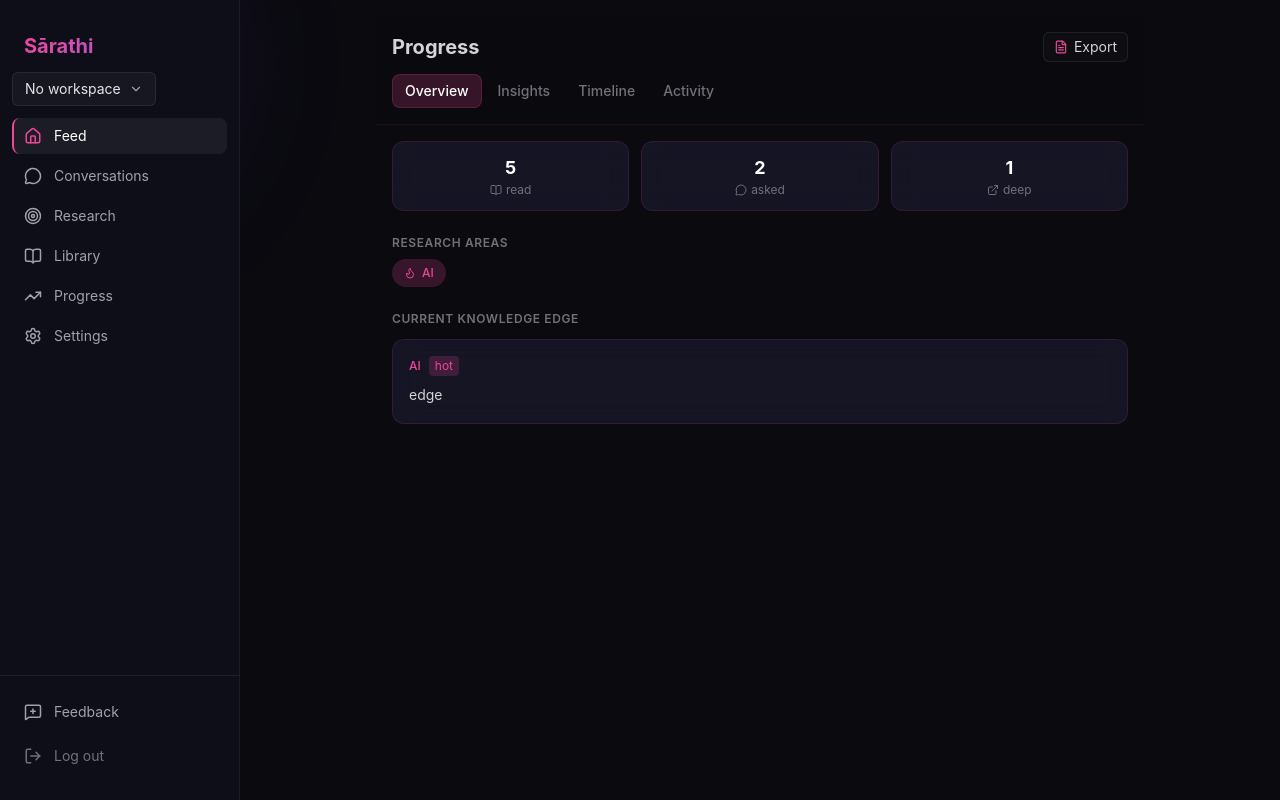
Test case: Profile page › shows tiered summaries and brief archive when Activity tab is opened
Step 1. Click the button "activity" → [689, 91], box [651,74,726,108]
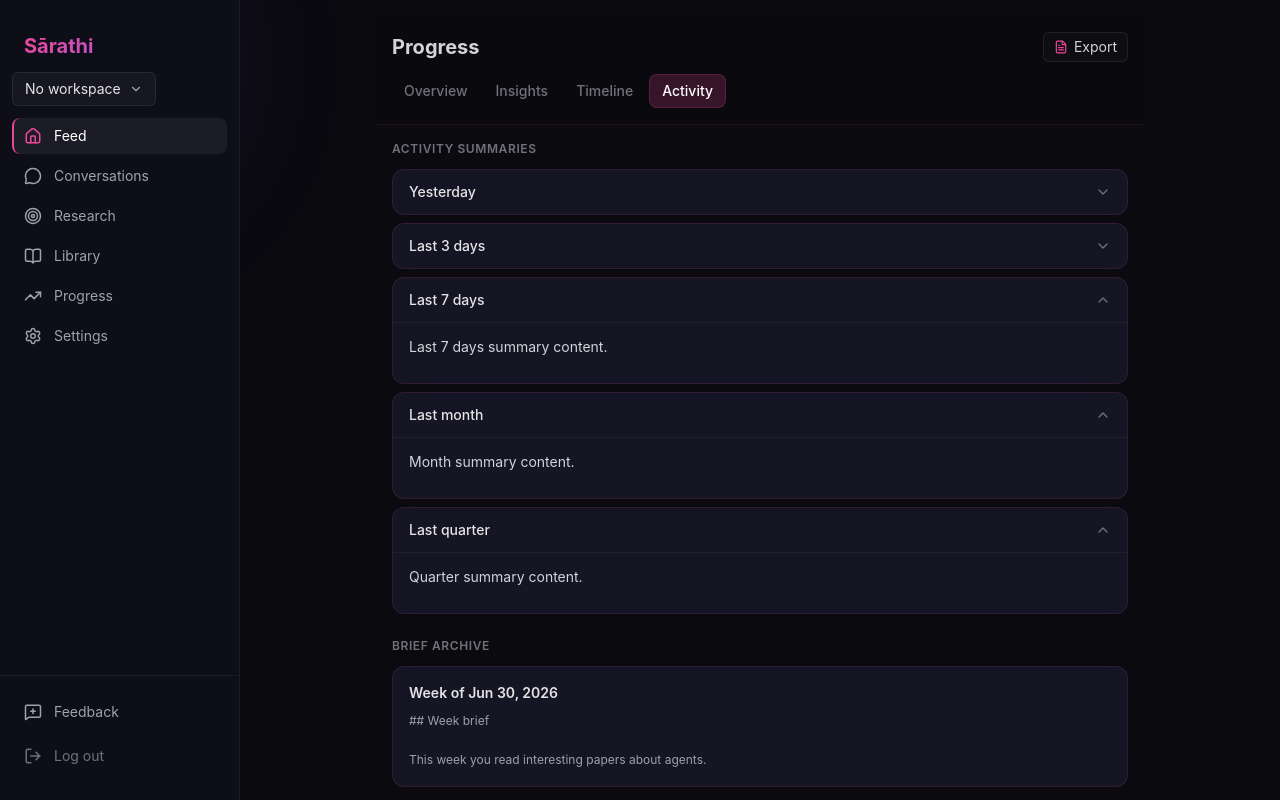
Expected: the text "Yesterday" is shown, [409,182,476,202]
Expected: the text "Last 3 days" is shown, [409,236,485,256]
Expected: the text "Last 7 days" is shown, [409,290,485,310]
